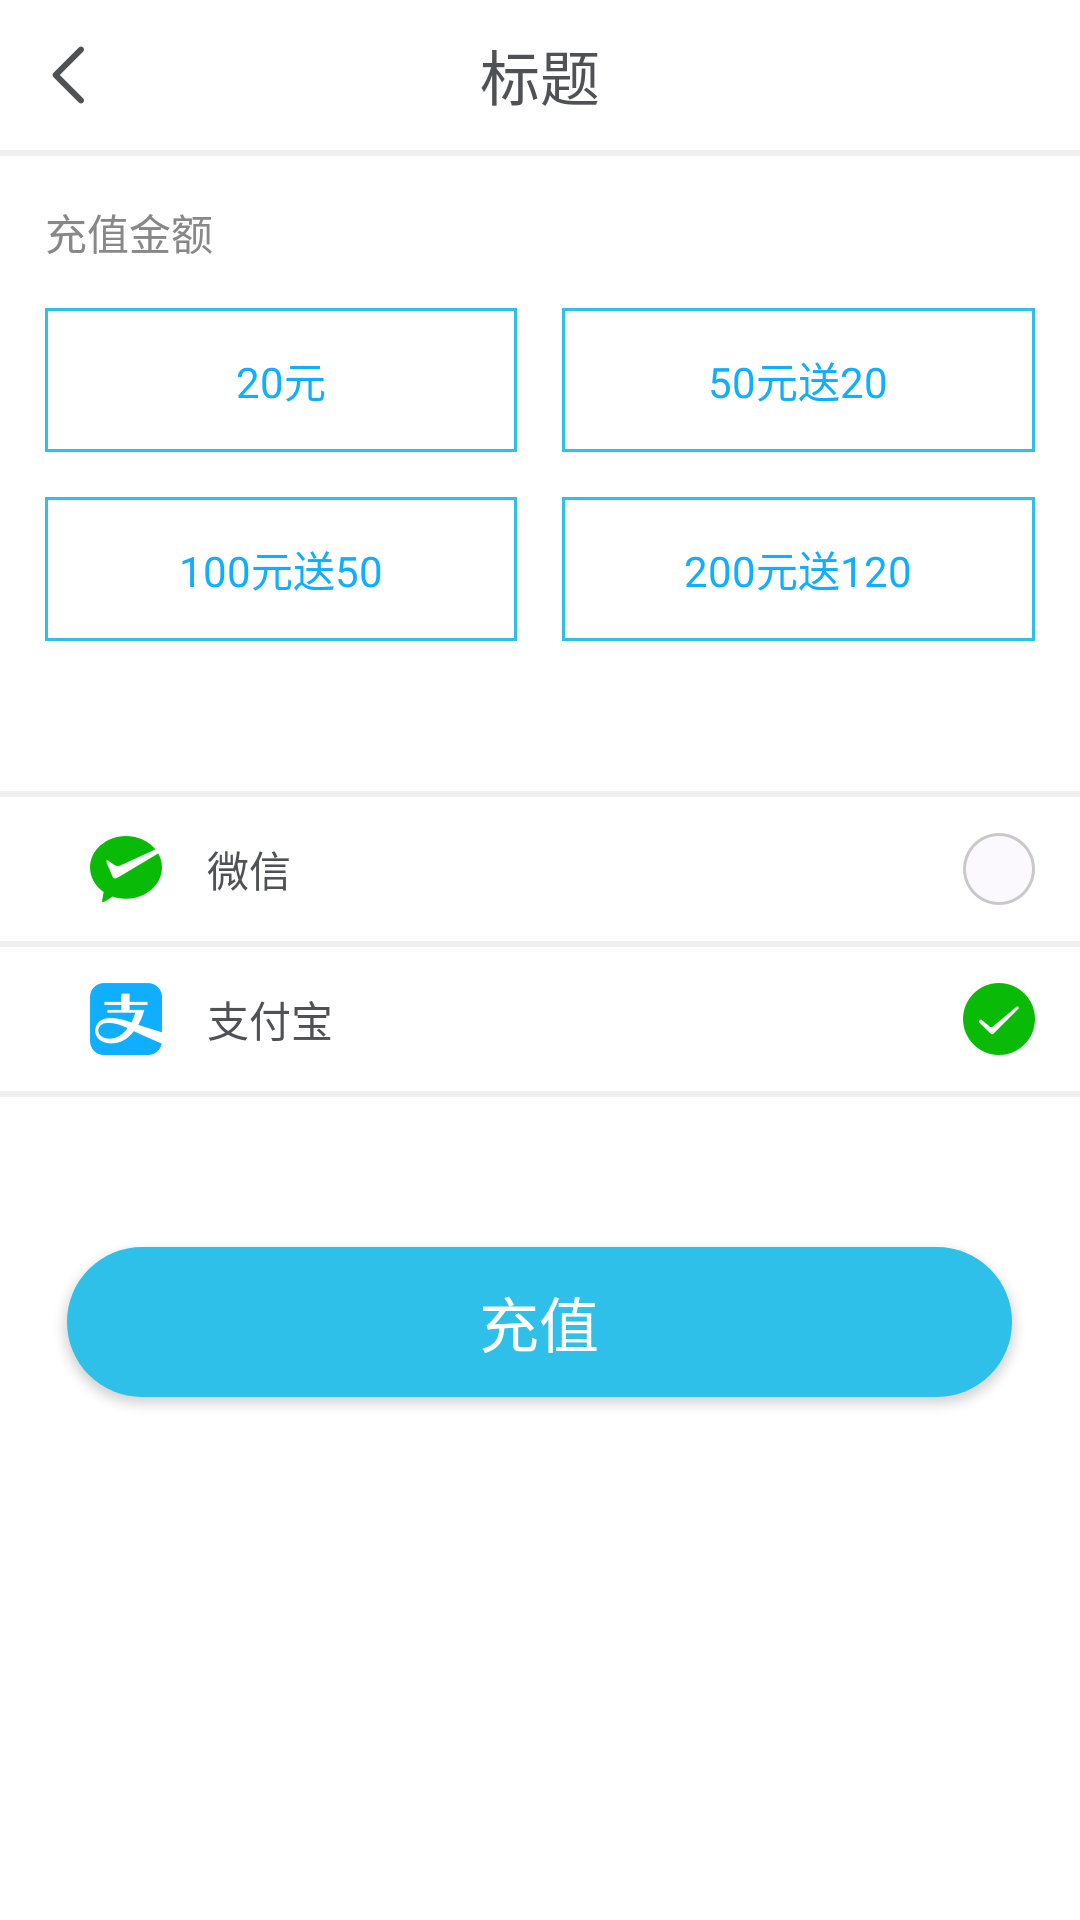

Named icons in this screenshot (1080 × 1920) and their centers, (x=x, y=y):
back: (x=68, y=75)
check off: (x=999, y=869)
check on: (x=999, y=1019)
